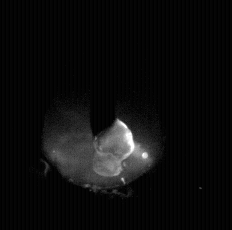arame: (90, 0, 118, 137)
poca: (42, 0, 164, 230)
